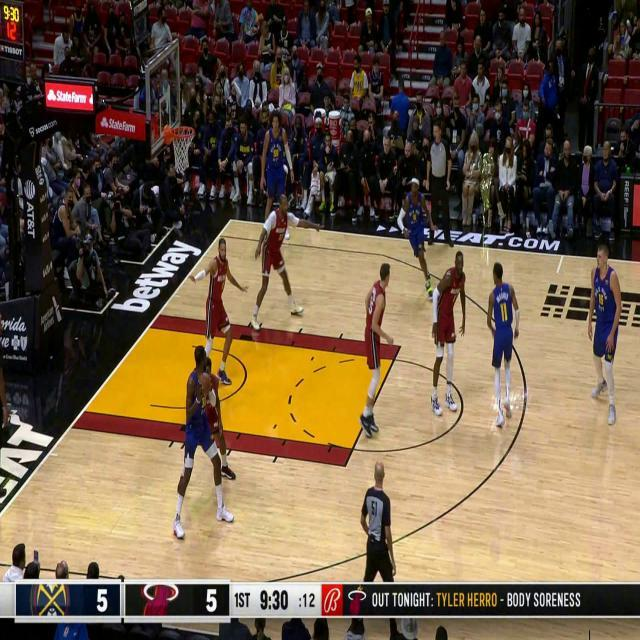rim: (199, 372, 210, 392)
